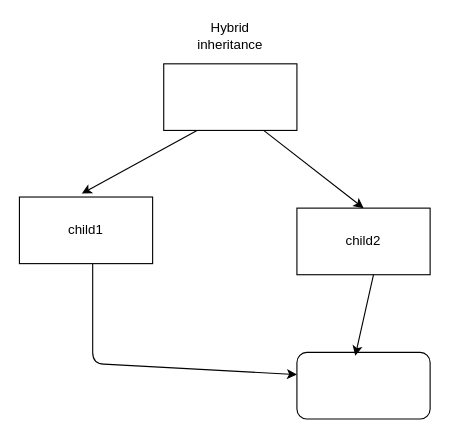
Some shapes in this 450 by 438 pixel diagram are drawn without their labels. Here are the shapes that lost their labels. From the top down, the box of each, then its label:
(163, 63, 297, 130): Parent
(296, 351, 430, 419): subchild
